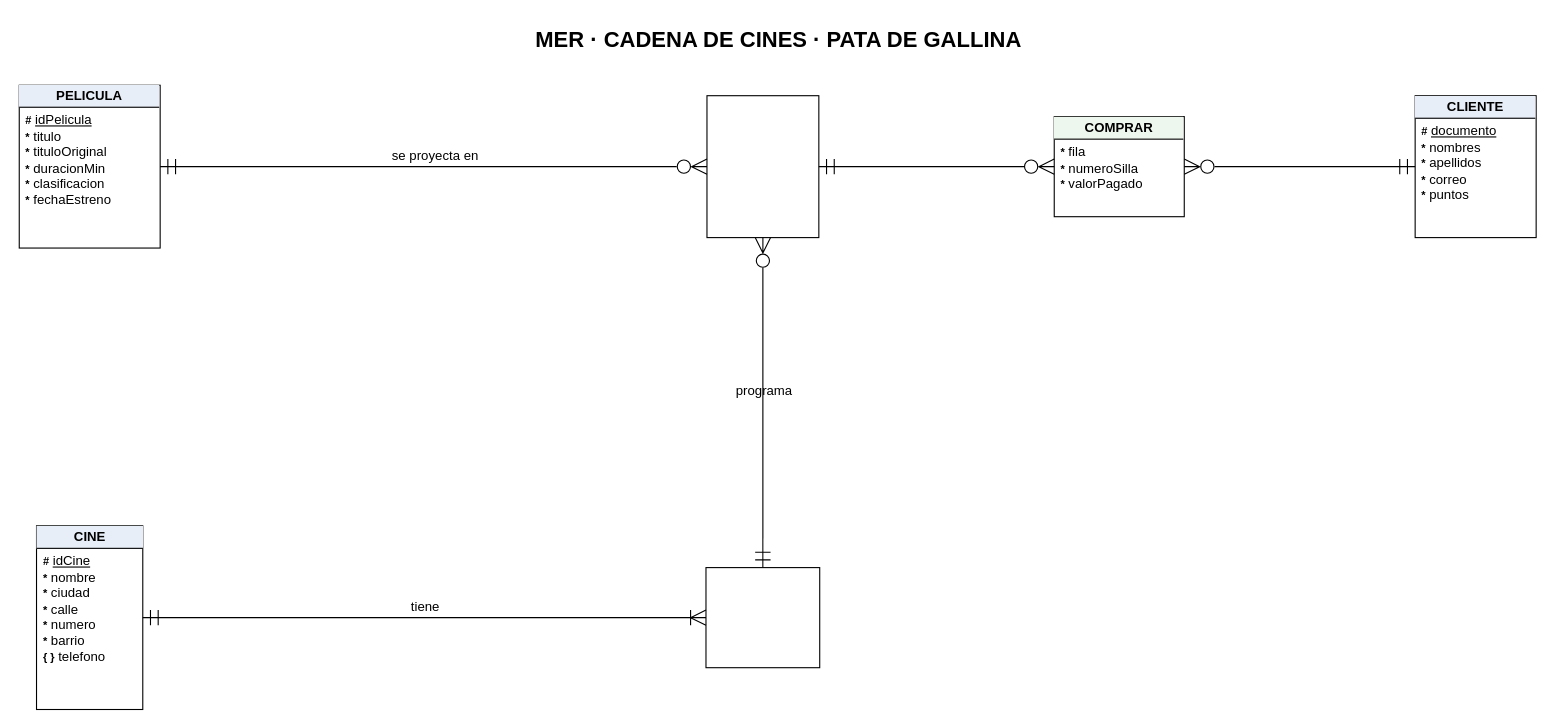
Some shapes in this 1555 by 728 pixel diagram are drawn without their labels. The box of each missing label's shape, as (x1, y1, x2, y2) in pixels:
FUNCION # idFuncion * fecha * hora * precio * idioma: (706, 95, 819, 238)
SALA # idSala * numero * capacidad: (705, 566, 820, 668)
